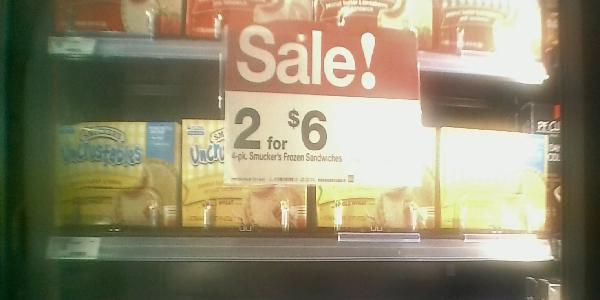icecream: (180, 111, 309, 248), (312, 108, 439, 247), (47, 117, 182, 246), (442, 123, 549, 248)
